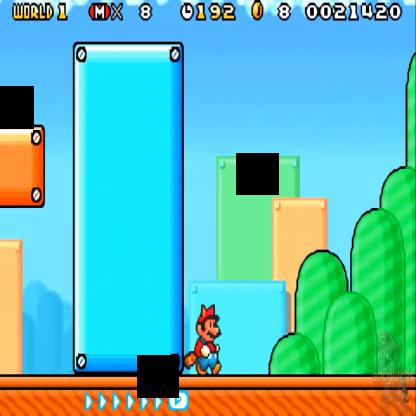Mario: (180, 301, 226, 378)
